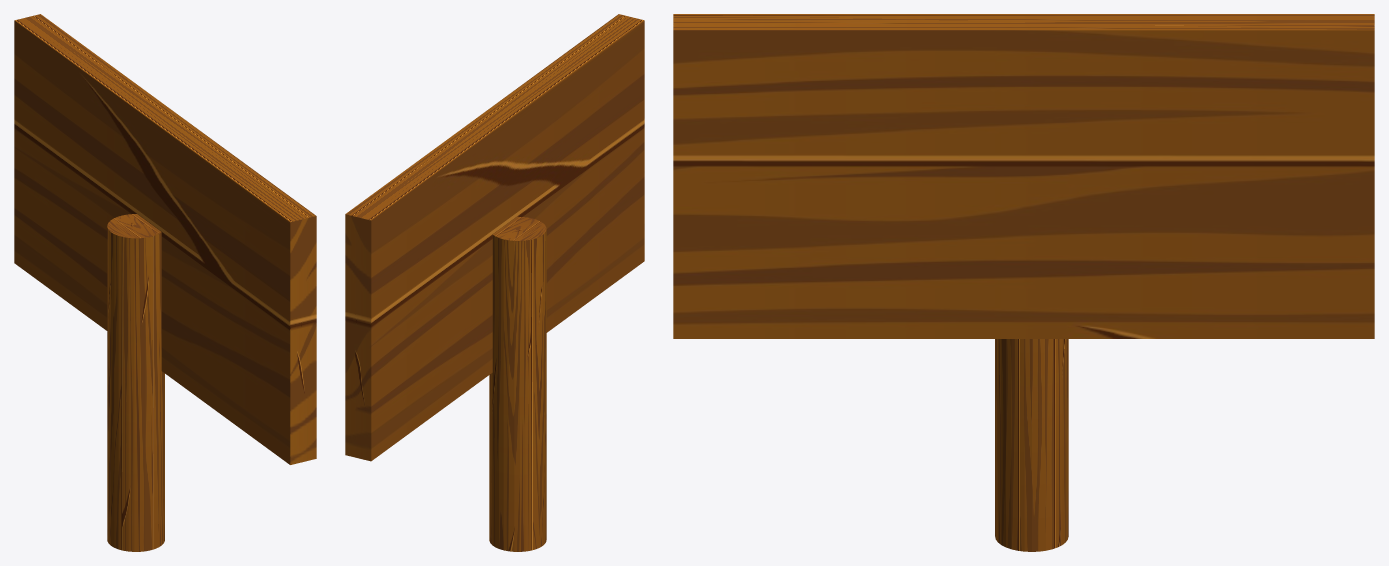
The model's file is ItemsBlender5 1.fbx.
3 renders of one model, left to right at view 1: azimuth 30°, elevation 25°; view 2: azimuth 150°, elevation 25°; view 3: azimuth 270°, elevation 25°, orthographic. The views are drawn at different scales.
Visible parts, largest first — view 1: Cylinder.001; view 2: Cylinder.001; view 3: Cylinder.001.
Boxes of the visible parts, left/top/right/bottom form: Cylinder.001: left=14, top=14, right=316, bottom=551; Cylinder.001: left=345, top=14, right=644, bottom=551; Cylinder.001: left=673, top=14, right=1374, bottom=551.
Size of the model in its own units: 145 by 898 by 1075.
Materials: 1 (1 with a texture image).
